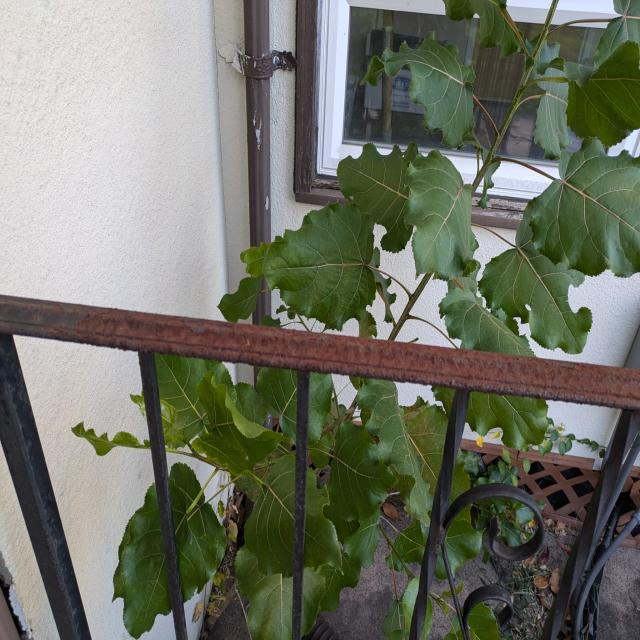Uniform Corrosion: (66, 315, 640, 409)
